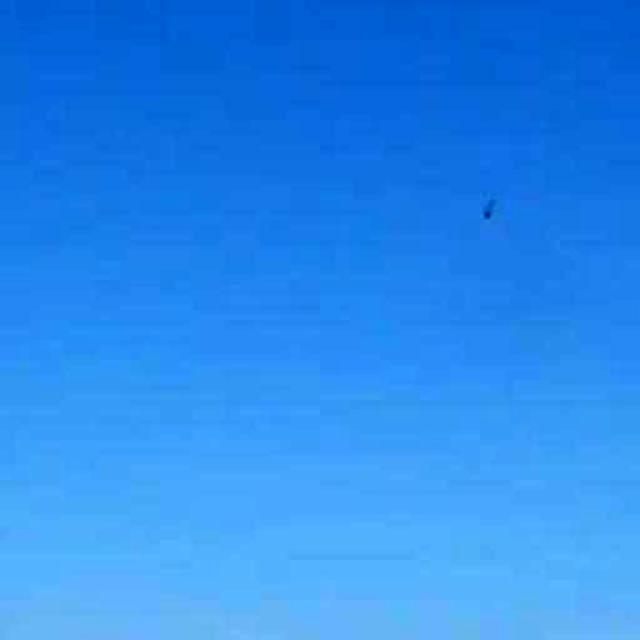drone: (456, 169, 516, 248)
